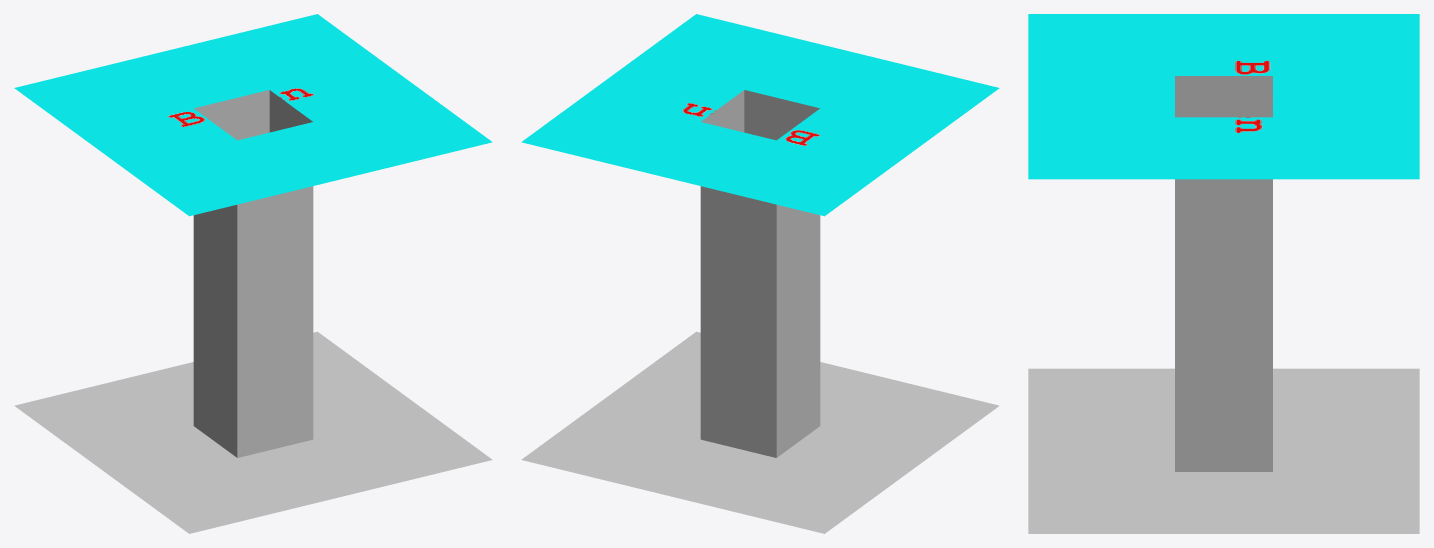
File: Pillar_1.fbx
3 renders of one model, left to right at view 1: azimuth 30°, elevation 25°; view 2: azimuth 150°, elevation 25°; view 3: azimuth 270°, elevation 25°, orthographic. The views are drawn at different scales.
Visible parts, largest first — view 1: Cube_041, Cube_037, Cube_020; view 2: Cube_041, Cube_037, Cube_020; view 3: Cube_041, Cube_037, Cube_020.
Boxes of the visible parts, x1,y1,x2,y2 form: Cube_041: [14, 14, 492, 216]; Cube_037: [14, 331, 492, 533]; Cube_020: [193, 90, 313, 457]; Cube_041: [521, 14, 999, 216]; Cube_037: [521, 331, 999, 533]; Cube_020: [700, 90, 820, 457]; Cube_041: [1028, 14, 1419, 179]; Cube_037: [1028, 368, 1419, 533]; Cube_020: [1175, 76, 1272, 471].
Size of the model in its own units: 10 by 10 by 10.
